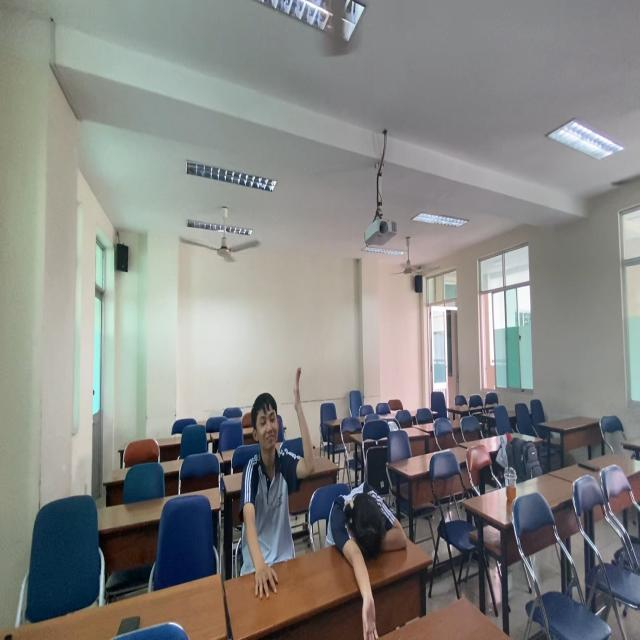raise_hand: (236, 365, 317, 569)
sleep: (300, 462, 416, 577)
